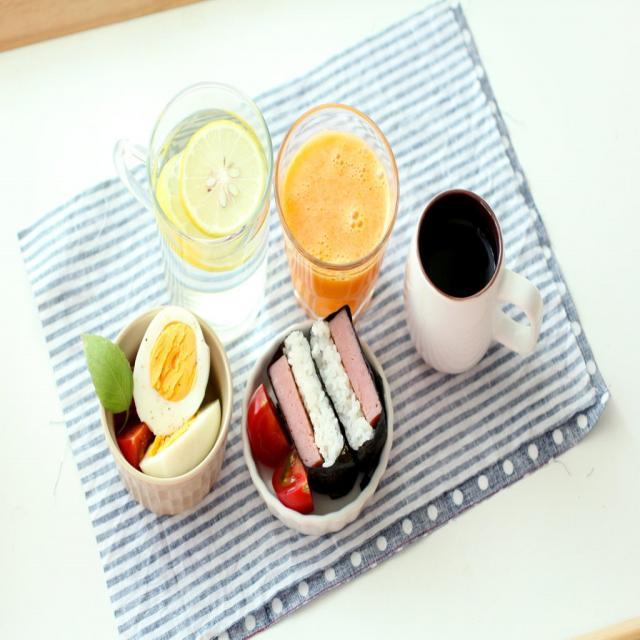Lemon: (174, 119, 269, 243)
